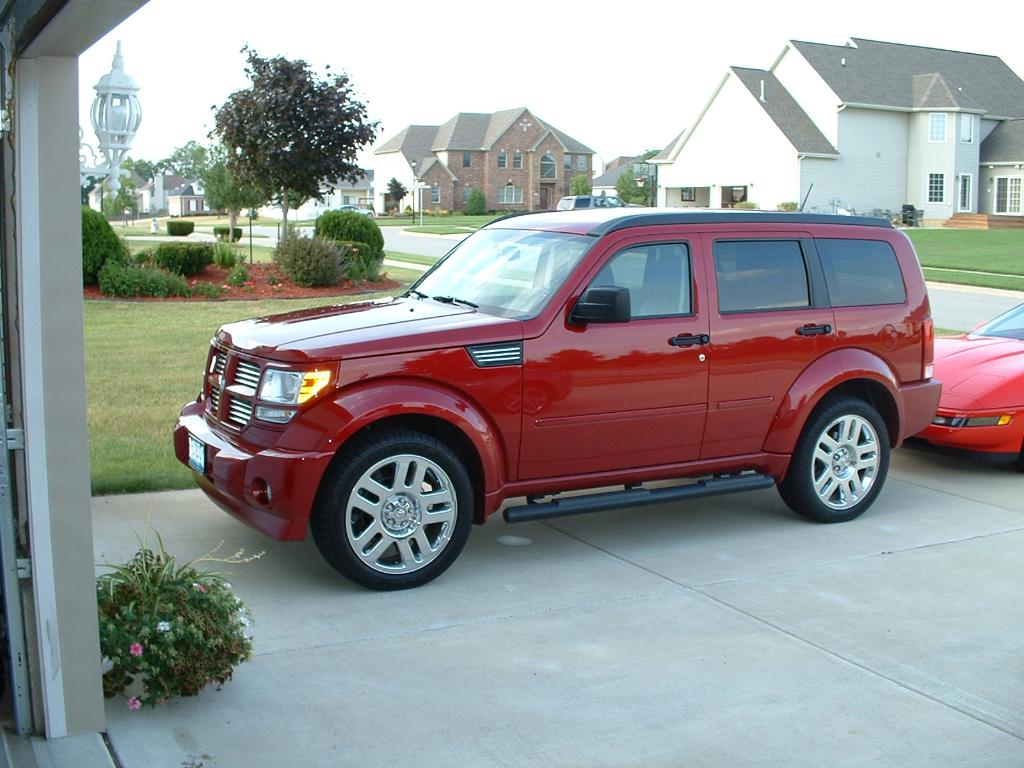Car: (170, 177, 942, 591), (907, 293, 1023, 468), (556, 193, 647, 210)
